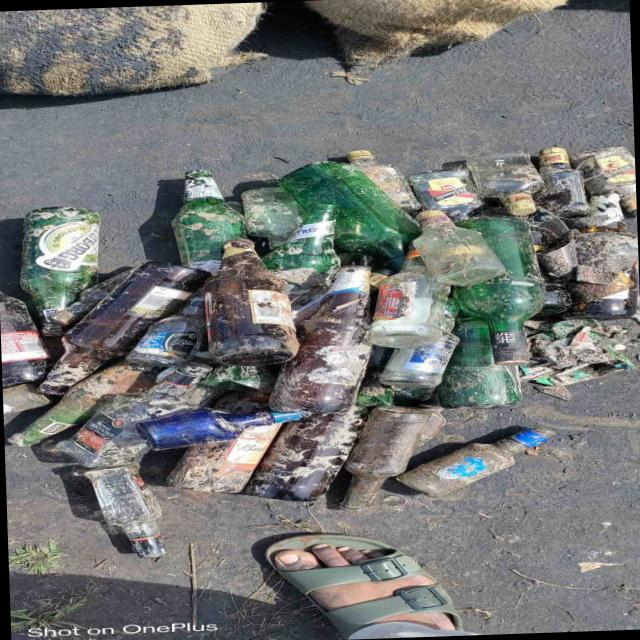chai_thuy_tinh: (37, 260, 207, 394), (269, 266, 369, 414), (277, 161, 419, 260), (455, 216, 543, 365), (5, 360, 149, 446), (201, 238, 297, 366), (243, 406, 368, 501), (396, 427, 554, 497), (340, 404, 443, 509), (18, 206, 98, 334), (563, 192, 638, 318), (262, 204, 339, 316), (368, 249, 449, 348), (437, 314, 521, 408), (169, 169, 243, 272), (53, 394, 152, 469), (83, 468, 162, 557), (412, 210, 504, 286), (124, 291, 204, 367), (135, 410, 265, 450), (345, 149, 420, 211), (0, 293, 45, 388), (379, 334, 458, 388), (407, 167, 481, 221), (239, 186, 301, 247), (535, 147, 589, 217), (466, 150, 544, 197), (269, 412, 308, 421)
